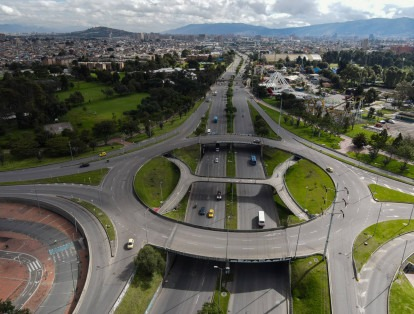car: (1, 25, 407, 310), (1, 34, 410, 311)
